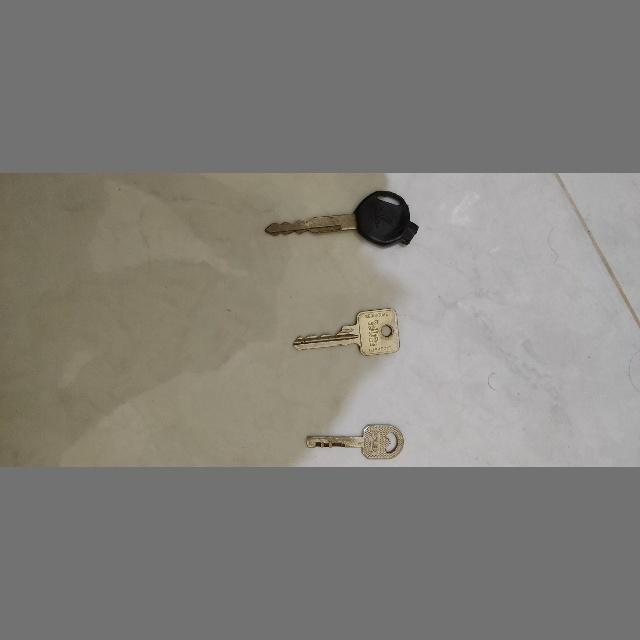Keys: (264, 189, 420, 251), (290, 306, 402, 358), (304, 422, 404, 462)
